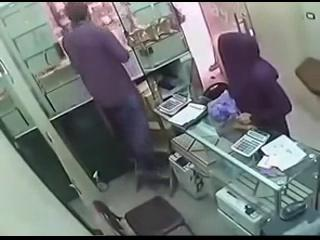Normal: (57, 3, 164, 191)
